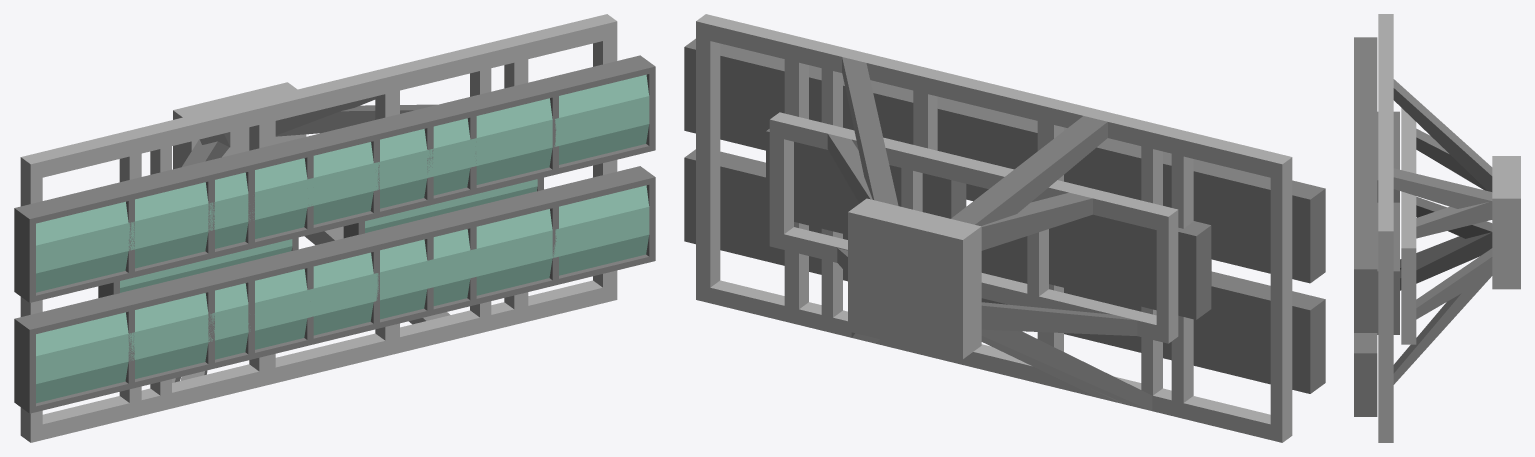
File: Lamp5.fbx
The picture shows the model from 3 angles, left to right: view 1: azimuth 30°, elevation 25°; view 2: azimuth 150°, elevation 25°; view 3: azimuth 270°, elevation 25°; orthographic projection. The views are drawn at different scales.
Visible parts, largest first — view 1: Lamp5.3, Lamp5.2, Lamp5.1; view 2: Lamp5.3, Lamp5.1, Lamp5.2; view 3: Lamp5.3, Lamp5.1, Lamp5.2.
Boxes of the visible parts, x1,y1,x2,y2 form: Lamp5.3: [14, 14, 655, 442]; Lamp5.2: [114, 35, 558, 417]; Lamp5.1: [98, 83, 543, 297]; Lamp5.3: [684, 14, 1325, 442]; Lamp5.1: [766, 112, 1211, 359]; Lamp5.2: [781, 36, 1226, 410]; Lamp5.3: [1354, 14, 1520, 442]; Lamp5.1: [1377, 108, 1520, 344]; Lamp5.2: [1354, 50, 1492, 369].
Size of the model in its own units: 55.96 by 23.8 by 16.99.
